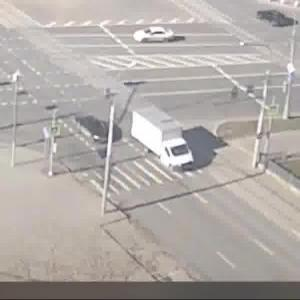car: (132, 111, 196, 174), (79, 117, 124, 145), (258, 6, 294, 33), (134, 26, 181, 46)
